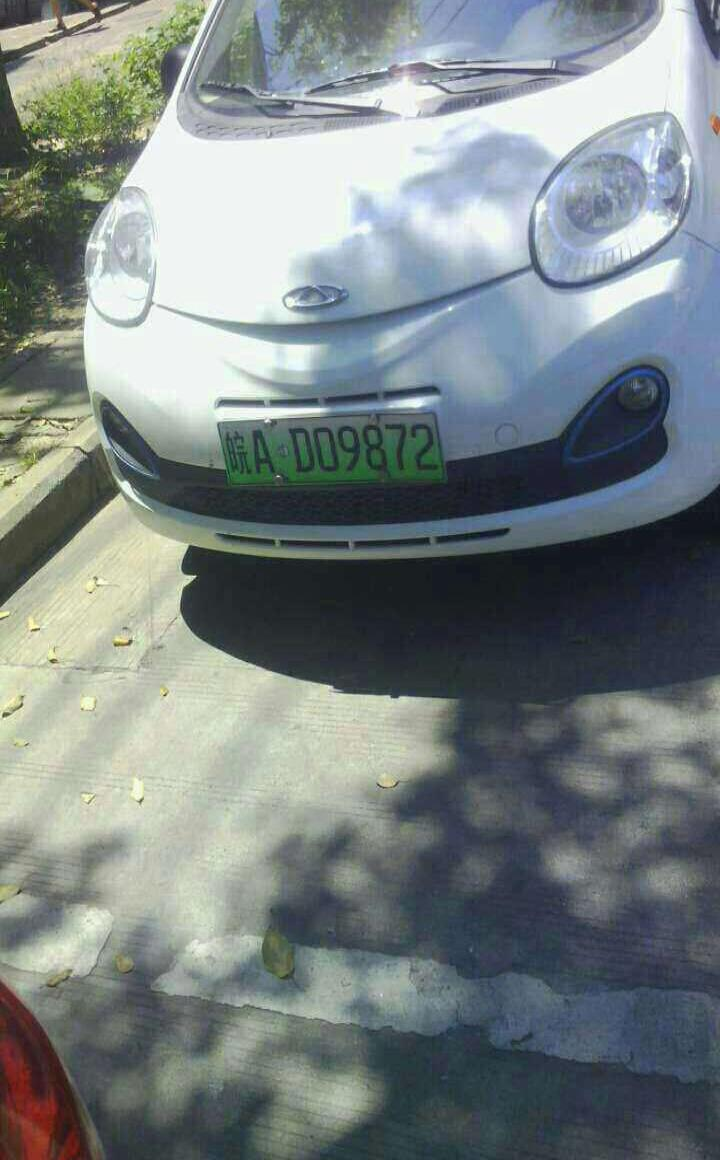car_id: (216, 413, 451, 484)
